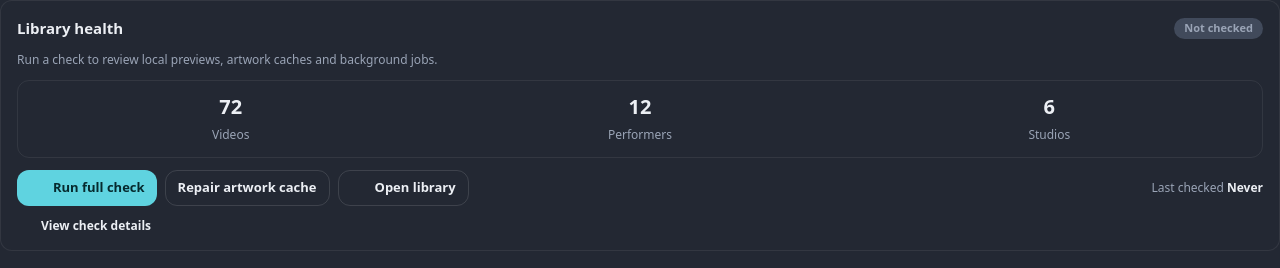
Scenario: LibraryHealth › runs the full check, shows findings and the details, and remembers when
This screenshot has width=1280, height=268.
Click the button "Run full check".
click(87, 188)  # box [17,170,157,206]
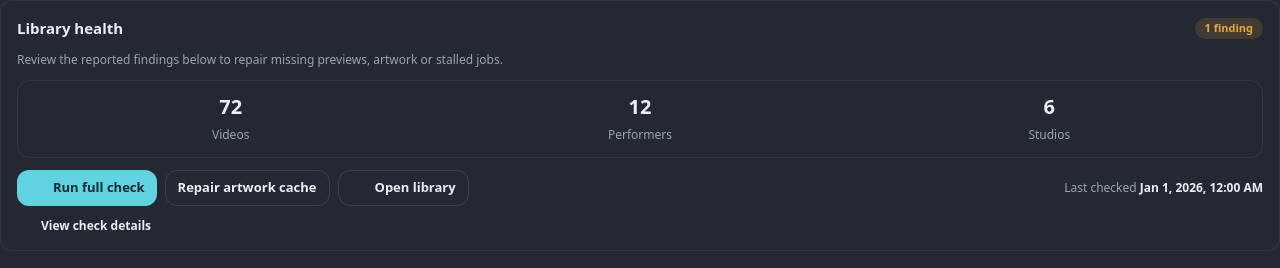
Check: the text "1 finding" is shown, box [1194,18,1263,38]
